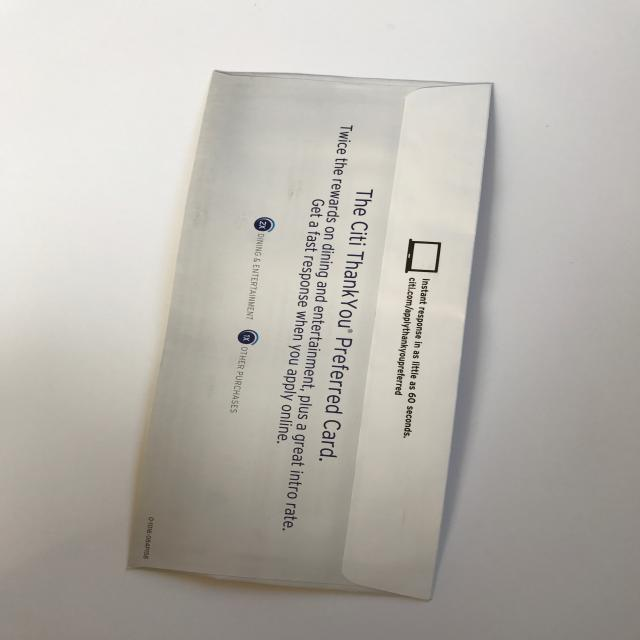Paper: (130, 64, 503, 597)
